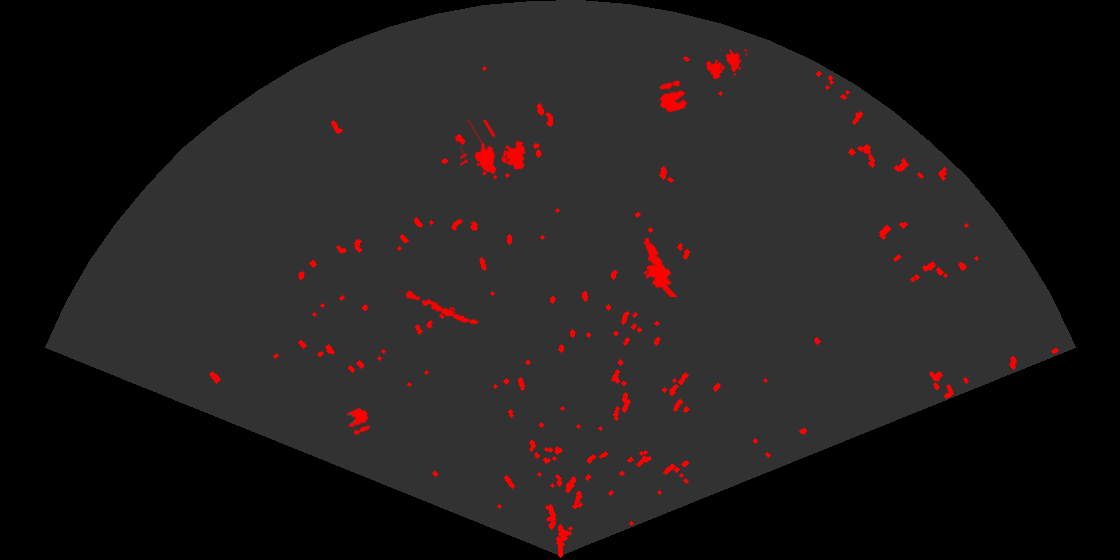ball: (657, 78, 689, 114), (345, 406, 372, 437)
cage: (460, 120, 527, 181), (704, 49, 747, 81)
chain: (397, 287, 481, 326)
frogman: (642, 236, 679, 297)
